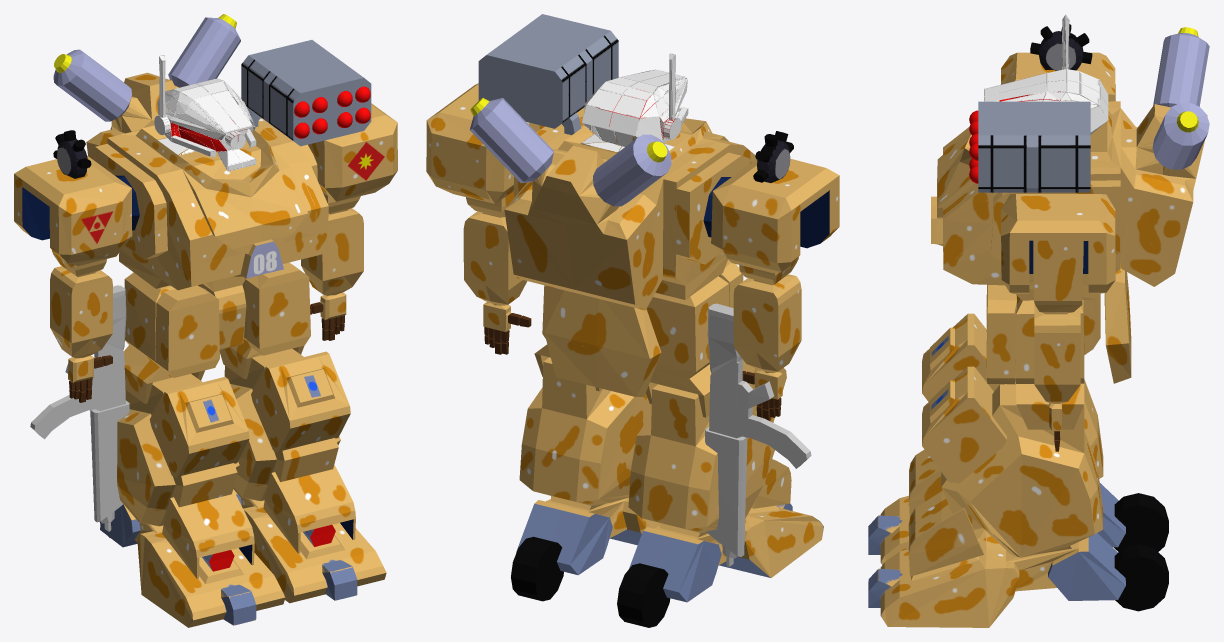
File: hunter.FBX
3 views of the same model, side by side, from view 1: azimuth 30°, elevation 25°; view 2: azimuth 150°, elevation 25°; view 3: azimuth 270°, elevation 25° (orthographic). The views are drawn at different scales.
Parts seen in each view (by area): view 1: HunterMesh, RP-109, M222, APGL; view 2: HunterMesh, RP-109, M222, APGL; view 3: HunterMesh, RP-109, APGL.
Part boxes in pixels (left/top/right/bottom): HunterMesh: left=14, top=14, right=397, bottom=627; RP-109: left=241, top=40, right=371, bottom=146; M222: left=30, top=285, right=129, bottom=531; APGL: left=53, top=130, right=91, bottom=178; HunterMesh: left=426, top=53, right=839, bottom=627; RP-109: left=478, top=14, right=618, bottom=135; M222: left=705, top=303, right=811, bottom=566; APGL: left=753, top=131, right=793, bottom=182; HunterMesh: left=868, top=15, right=1209, bottom=627; RP-109: left=969, top=101, right=1090, bottom=192; APGL: left=1030, top=24, right=1092, bottom=70.
Size of the model in its own units: 77.01 by 109 by 62.19.
